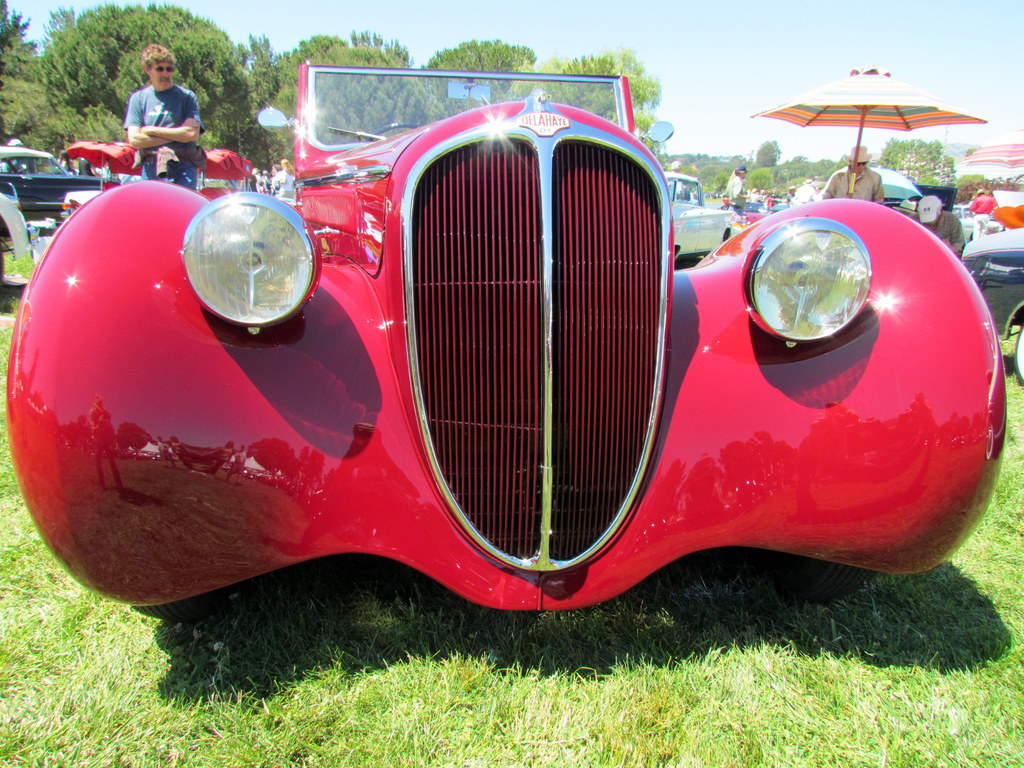Car: (11, 78, 958, 638), (663, 172, 1023, 379), (0, 137, 105, 220), (0, 193, 40, 268)
